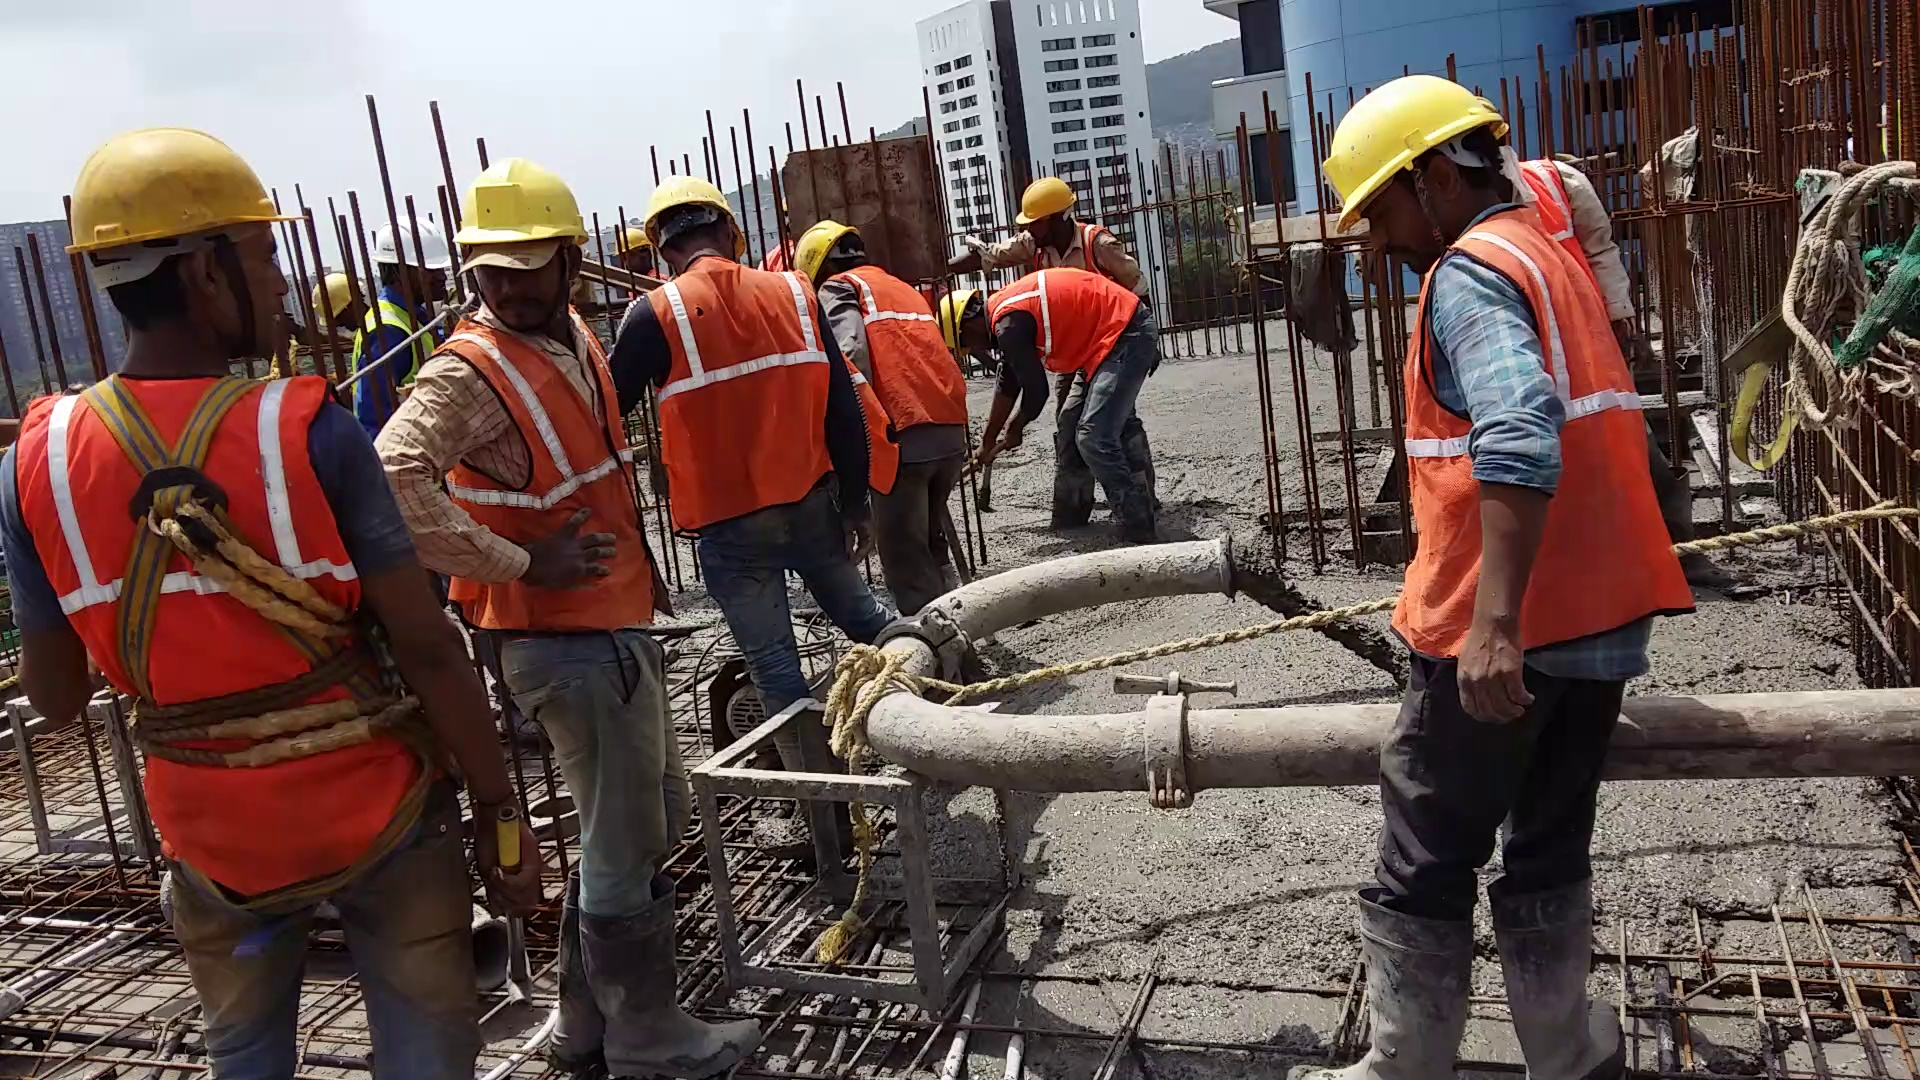SAFE: (3, 131, 386, 893), (1312, 65, 1648, 676), (444, 158, 653, 642), (649, 171, 844, 542), (810, 216, 971, 458), (945, 269, 1172, 400)
